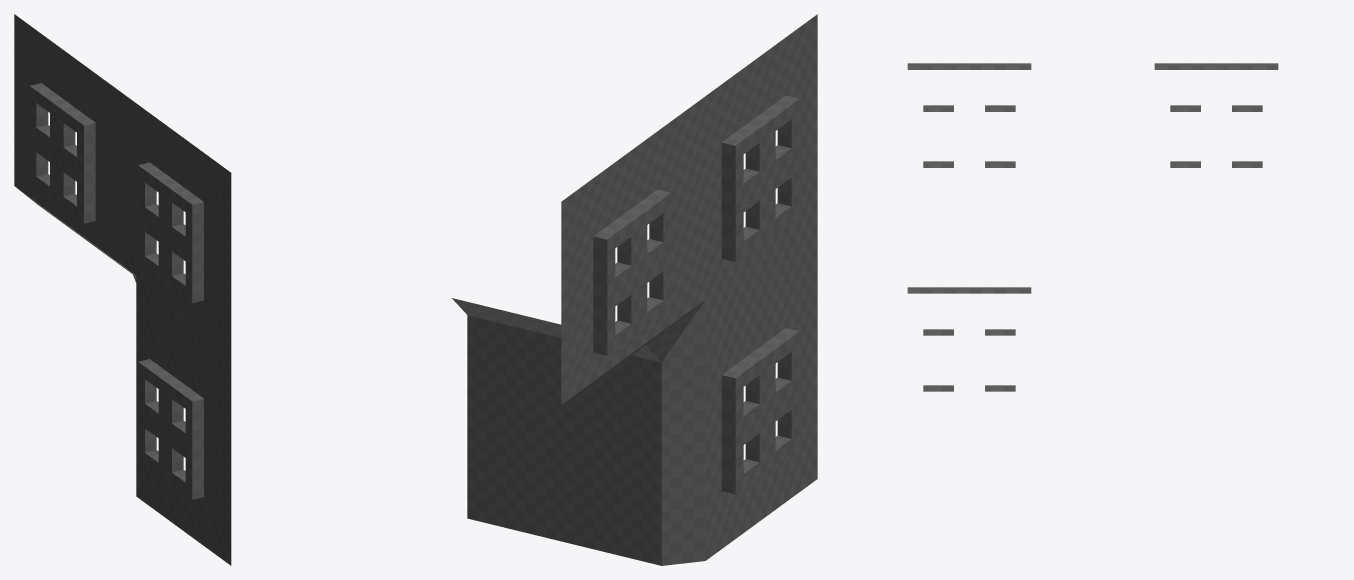
The picture shows the model from 3 angles, left to right: view 1: azimuth 30°, elevation 25°; view 2: azimuth 150°, elevation 25°; view 3: azimuth 270°, elevation 25°; orthographic projection. The views are drawn at different scales.
Visible parts, largest first — view 1: CubeDownBackLeftV3; view 2: CubeDownBackLeftV3; view 3: CubeDownBackLeftV3.
Part boxes in pixels (left/top/right/bottom): CubeDownBackLeftV3: left=14, top=14, right=231, bottom=565; CubeDownBackLeftV3: left=452, top=14, right=817, bottom=565; CubeDownBackLeftV3: left=907, top=63, right=1278, bottom=391.
Bounding box in the file's own units: 2.12 × 4 × 4.
1 material, 1 textured.
